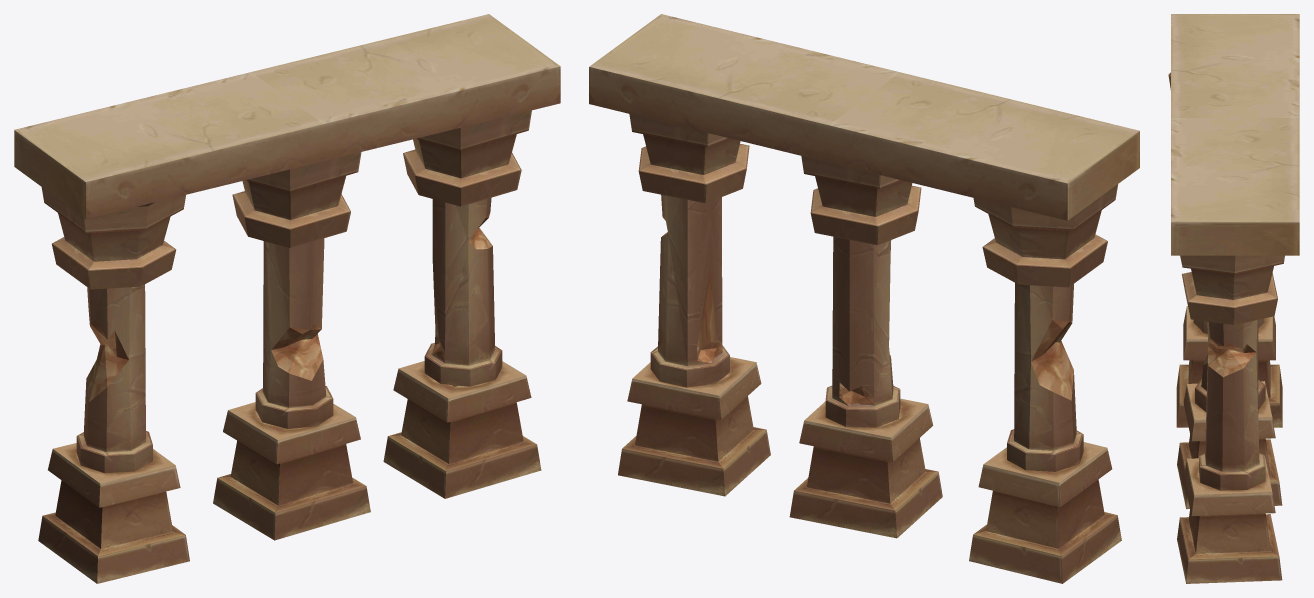
Rendered from YiJi_weiqiang_02.fbx.
3 renders of one model, left to right at view 1: azimuth 30°, elevation 25°; view 2: azimuth 150°, elevation 25°; view 3: azimuth 270°, elevation 25°, orthographic. The views are drawn at different scales.
Parts seen in each view (by area): view 1: YiJi_weiqiang_02; view 2: YiJi_weiqiang_02; view 3: YiJi_weiqiang_02.
Boxes of the visible parts, bbox=[...] form: YiJi_weiqiang_02: bbox=[14, 14, 560, 583]; YiJi_weiqiang_02: bbox=[589, 14, 1139, 583]; YiJi_weiqiang_02: bbox=[1168, 14, 1299, 583].
Size of the model in its own units: 6.62 by 5.43 by 1.76.
